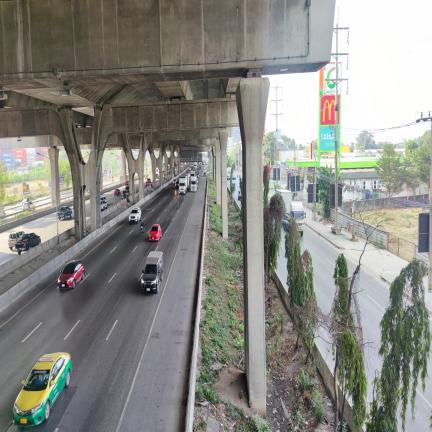car: (58, 260, 84, 289), (15, 233, 41, 255), (8, 231, 25, 250), (149, 224, 162, 241), (129, 207, 141, 224), (22, 200, 35, 210), (283, 216, 290, 232), (176, 179, 179, 188), (172, 179, 176, 185)
pickup: (141, 251, 163, 293), (57, 206, 72, 220)
taxi: (13, 352, 72, 426)
truck: (276, 189, 305, 237), (179, 173, 190, 195), (190, 171, 198, 192)
